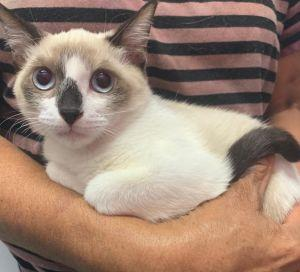siamese: (1, 1, 163, 155)
